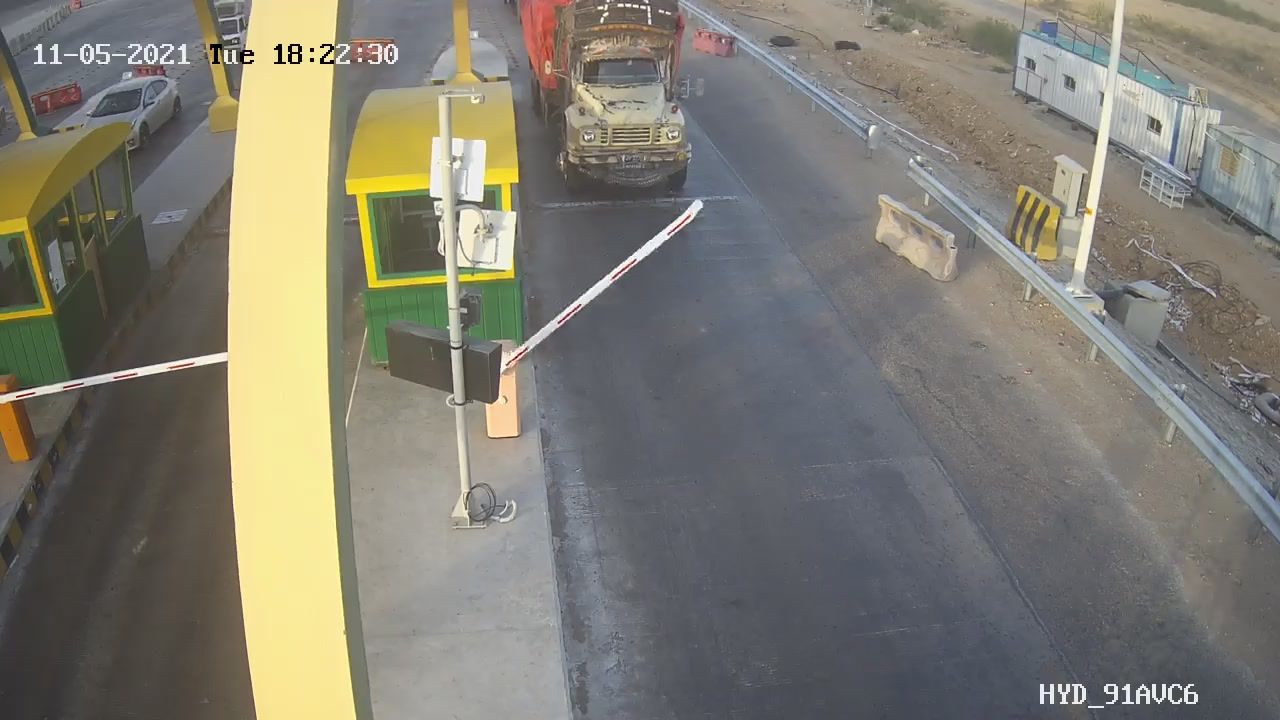F5: (530, 3, 715, 198)
